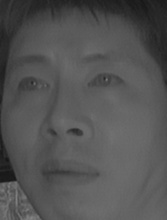eye: (86, 69, 128, 96), (13, 75, 51, 97)
mouth: (37, 155, 102, 190)
